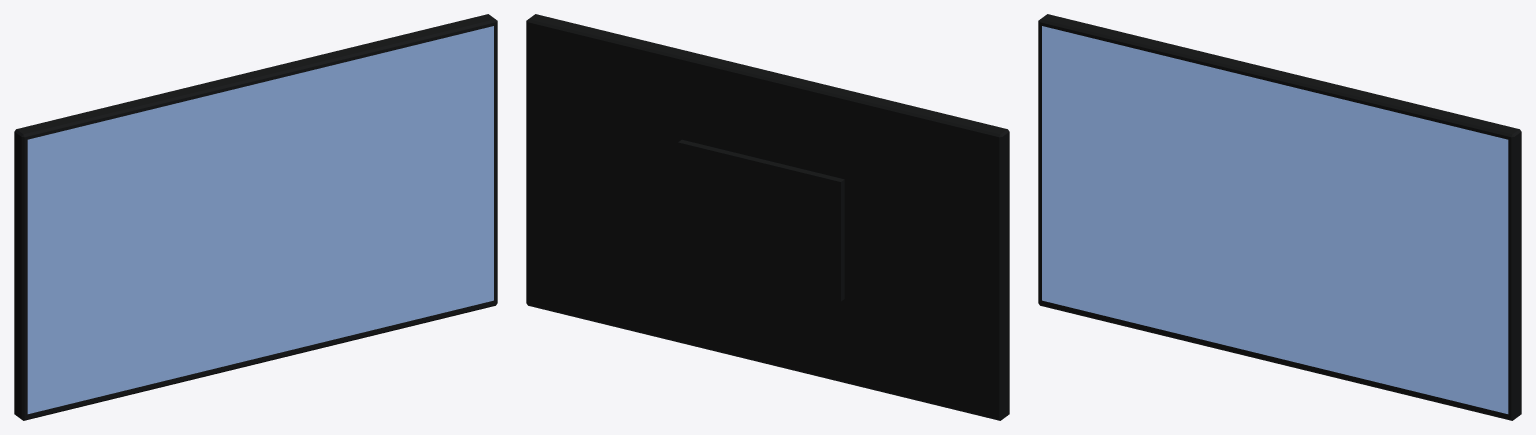
Rendered from tv-screen.glb.
3 views of the same model, side by side, from view 1: azimuth 30°, elevation 25°; view 2: azimuth 150°, elevation 25°; view 3: azimuth 330°, elevation 25° (orthographic).
Visible parts, largest first — view 1: tv-screen; view 2: tv-screen; view 3: tv-screen.
Boxes of the visible parts, box(x1,y1,x2,y2) form: tv-screen: box(14, 14, 497, 420); tv-screen: box(526, 14, 1009, 420); tv-screen: box(1038, 14, 1521, 420).
Bounding box in the file's own units: 1.46 × 0.84 × 0.0705.
